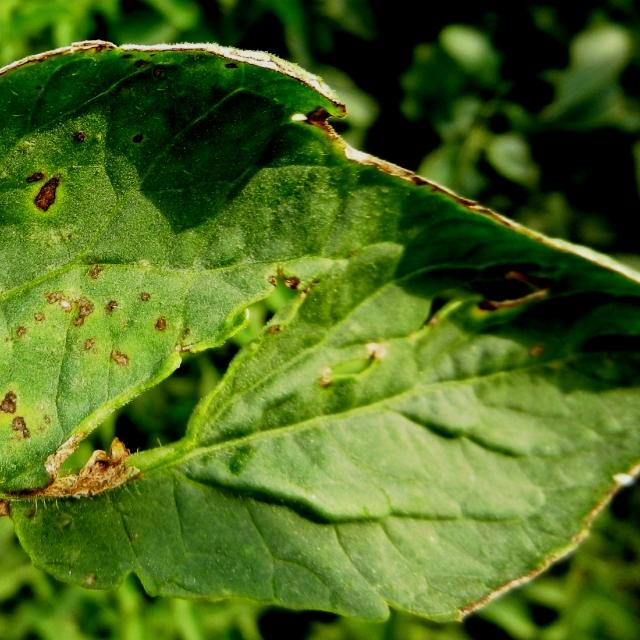Tomato leaf bacterial spot: (0, 10, 640, 604)
